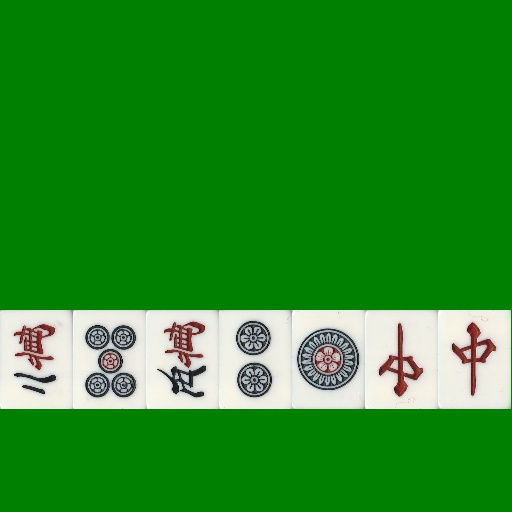1p: (292, 310, 365, 409)
2m: (0, 310, 73, 409)
2p: (219, 310, 292, 409)
5m: (146, 310, 219, 409)
5p: (73, 310, 146, 409)
tyun: (365, 310, 438, 409), (438, 310, 511, 409)
